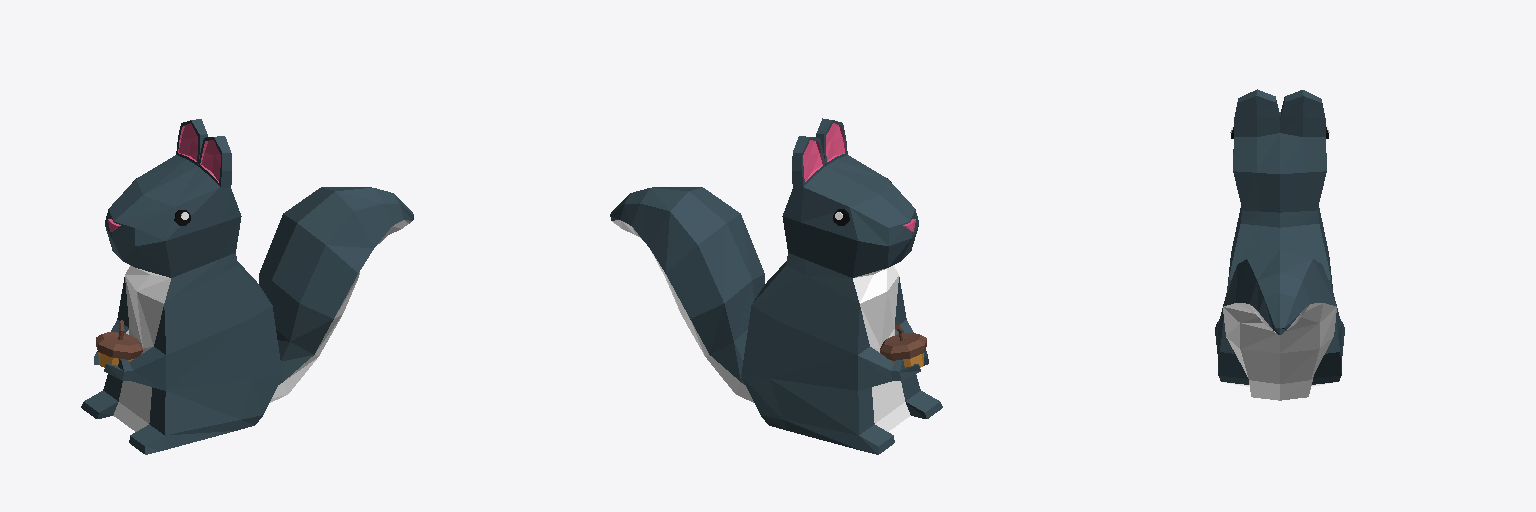
Rendered from Squirrel_01.obj.
3 views of the same model, side by side, from view 1: azimuth 30°, elevation 25°; view 2: azimuth 150°, elevation 25°; view 3: azimuth 270°, elevation 25° (orthographic).
Parts seen in each view (by area): view 1: Cube.026; view 2: Cube.026; view 3: Cube.026.
Boxes of the visible parts, box(x1,y1,x2,y2) form: Cube.026: box(81, 119, 413, 454); Cube.026: box(610, 118, 942, 454); Cube.026: box(1215, 89, 1344, 400).
Bounding box in the file's own units: 227 × 193 × 80.57.